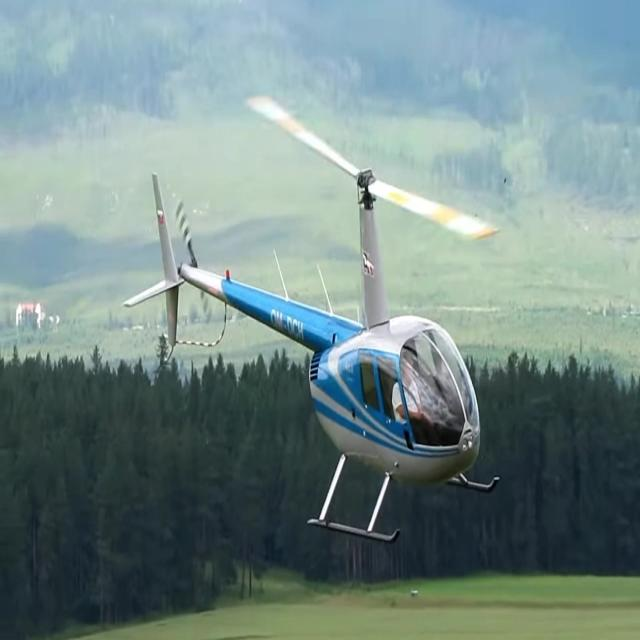CIV_HELO: (122, 166, 500, 546)
